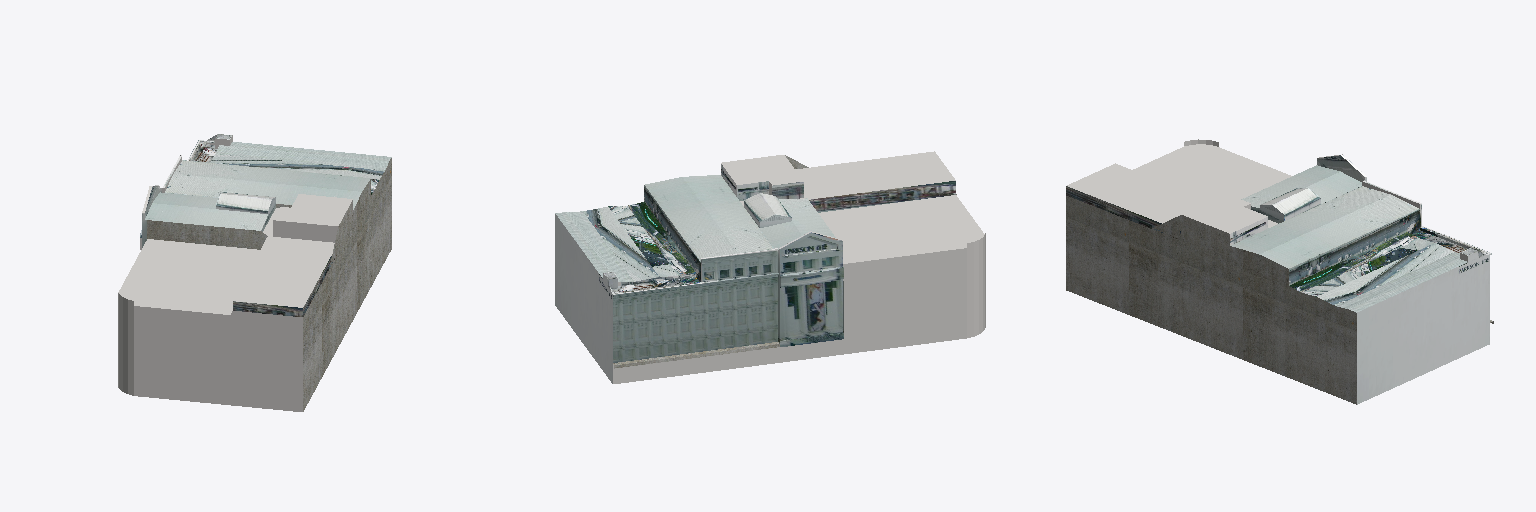
3 views of the same model, side by side, from view 1: azimuth 30°, elevation 25°; view 2: azimuth 150°, elevation 25°; view 3: azimuth 270°, elevation 25° (orthographic).
Parts seen in each view (by area): view 1: Mesh1 ParkSon1 Model; view 2: Mesh1 ParkSon1 Model; view 3: Mesh1 ParkSon1 Model.
Part boxes in pixels (x1,y1,x2,y2): Mesh1 ParkSon1 Model: (118, 134, 391, 411); Mesh1 ParkSon1 Model: (555, 151, 985, 383); Mesh1 ParkSon1 Model: (1066, 139, 1493, 404).
Size of the model in its own units: 94.02 by 33.51 by 99.97.
Materials: 97 (96 with a texture image).